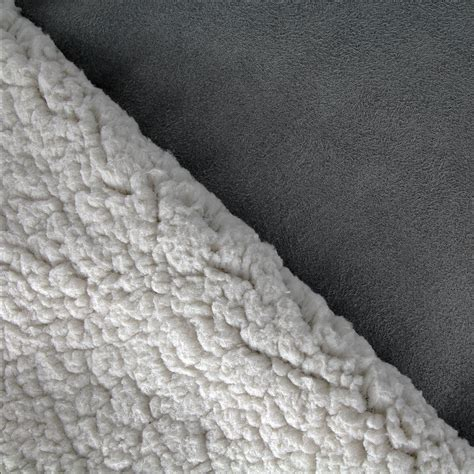gamuza: (14, 1, 474, 448)
